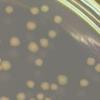white: (25, 39, 40, 54), (8, 35, 22, 50), (24, 19, 38, 33), (56, 73, 69, 87), (0, 59, 13, 72), (84, 55, 97, 68), (77, 77, 90, 89), (24, 79, 38, 90), (13, 90, 28, 100), (3, 4, 15, 16), (38, 35, 49, 48), (38, 81, 51, 92), (27, 6, 41, 16), (47, 29, 58, 41), (52, 14, 64, 25), (32, 58, 45, 68), (39, 4, 51, 14), (49, 82, 60, 92), (93, 61, 100, 74), (35, 92, 45, 100), (0, 95, 11, 100), (43, 95, 54, 100), (0, 54, 4, 67), (27, 96, 38, 100)
